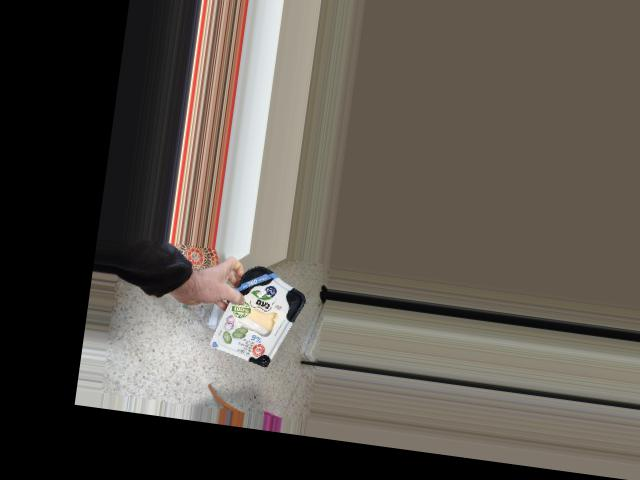cheese: (222, 260, 303, 370)
